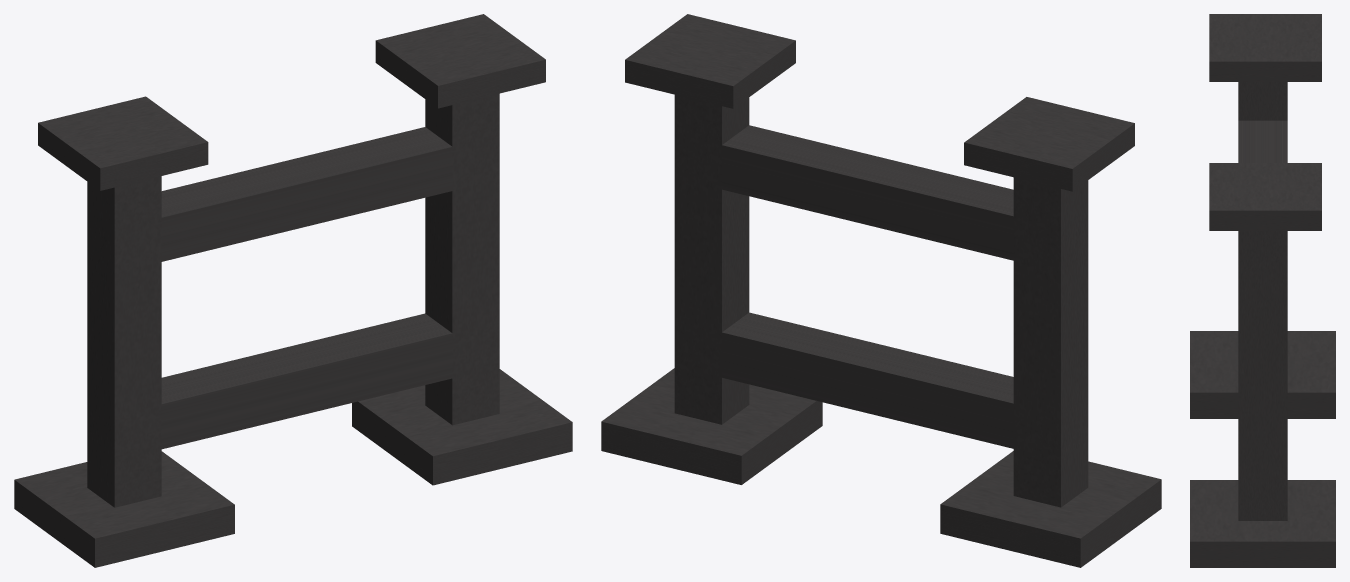
The model's file is Fence.fbx.
3 renders of one model, left to right at view 1: azimuth 30°, elevation 25°; view 2: azimuth 150°, elevation 25°; view 3: azimuth 270°, elevation 25°, orthographic. The views are drawn at different scales.
Parts seen in each view (by area): view 1: Cube; view 2: Cube; view 3: Cube.
Part boxes in pixels (bbox=[...]): Cube: bbox=[14, 14, 572, 567]; Cube: bbox=[601, 14, 1161, 567]; Cube: bbox=[1190, 14, 1335, 567].
Size of the model in its own units: 2.81 by 2.19 by 0.8226.
Materials: 1 (1 with a texture image).
